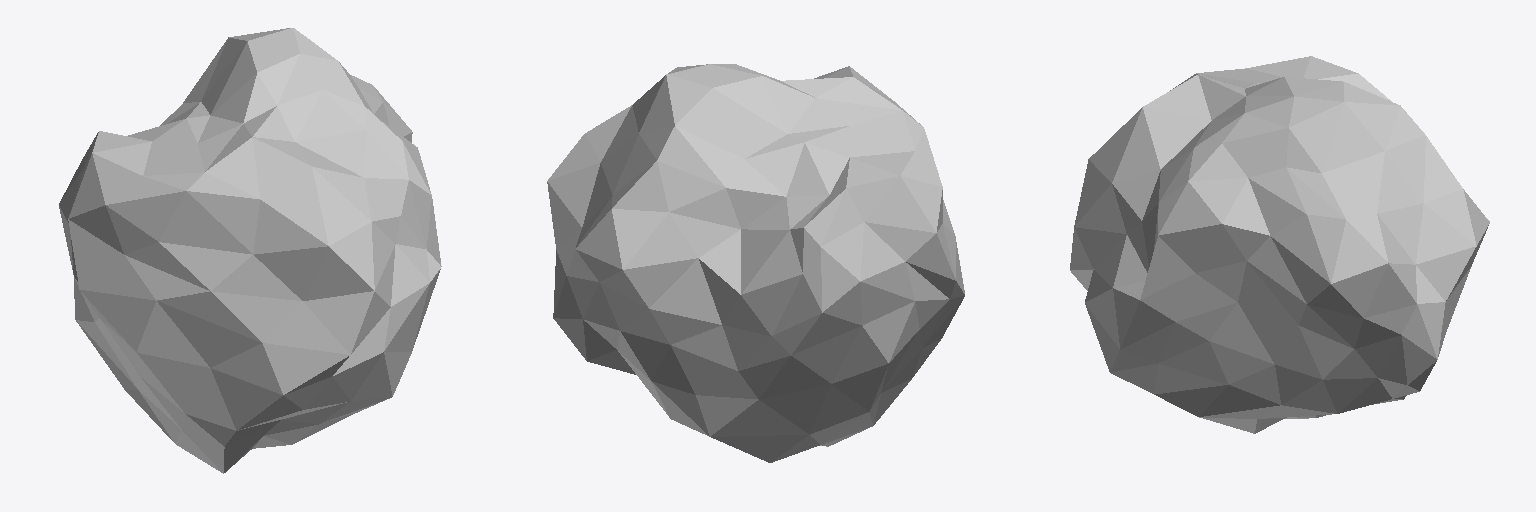
File: Genastre1.obj
3 views of the same model, side by side, from view 1: azimuth 30°, elevation 25°; view 2: azimuth 150°, elevation 25°; view 3: azimuth 270°, elevation 25° (orthographic).
Parts seen in each view (by area): view 1: astre1; view 2: astre1; view 3: astre1.
Part boxes in pixels (left/top/right/bottom): astre1: left=59, top=28, right=441, bottom=473; astre1: left=547, top=64, right=964, bottom=462; astre1: left=1070, top=56, right=1489, bottom=433.
Size of the model in its own units: 103 by 101 by 102.